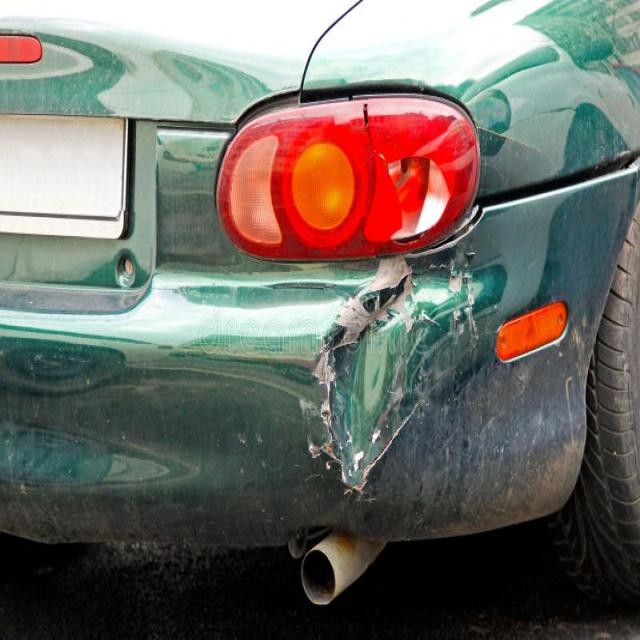crack: (356, 104, 453, 248)
misalignment: (411, 151, 640, 254), (238, 85, 475, 122)
scratch: (299, 249, 486, 499)
tear: (323, 263, 456, 489)
